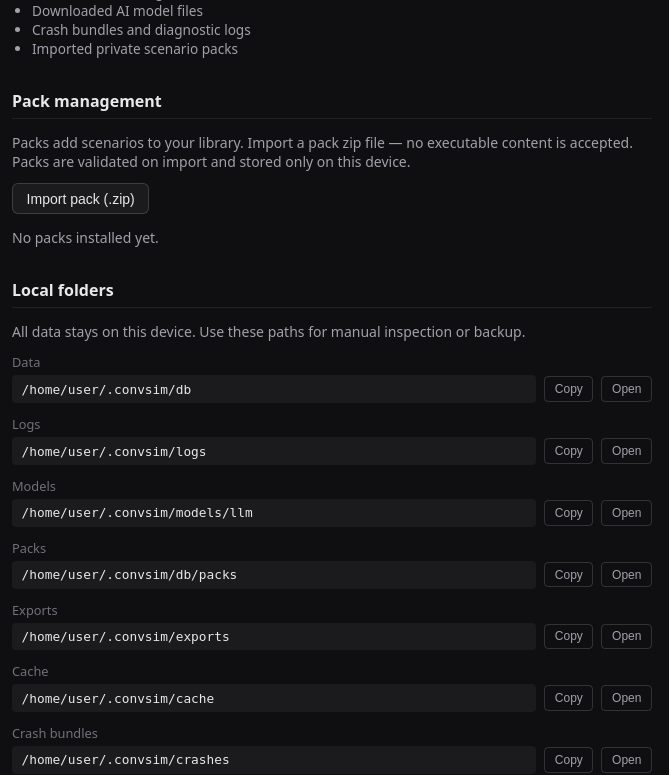
it: local folders: open in desktop shell › shows a fallback message when the shell rejects the path
(page scrolled)
Expected: the text "/home/user/.convsim/db" is shown, x1=12 y1=375 x2=536 y2=403
What coordinates should you click on to do the following:
click the button with aria-label "open data folder"
I would click on:
 (627, 389)
Its box is x1=602 y1=376 x2=652 y2=402.
(page scrolled)
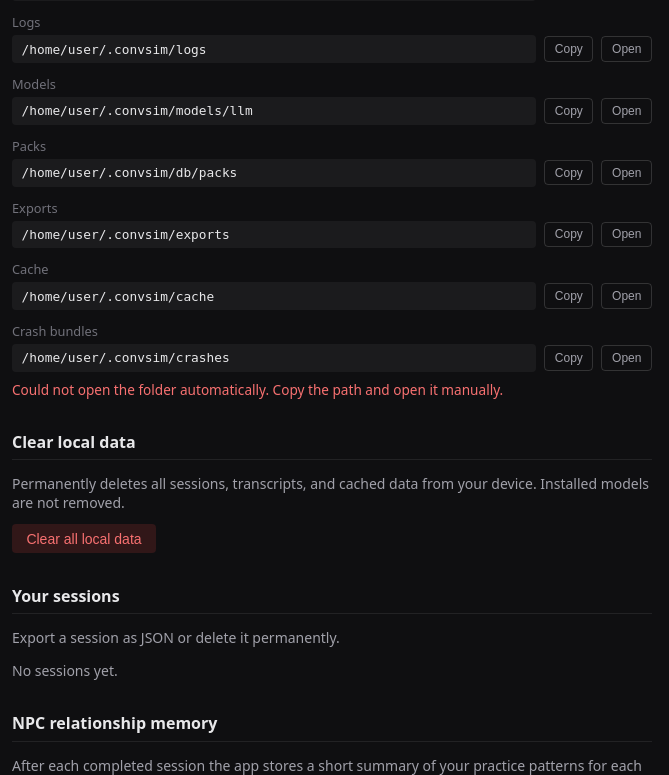
Expected: the message with test id "folder-open-error" shows "Copy the path", x1=12 y1=380 x2=503 y2=399
